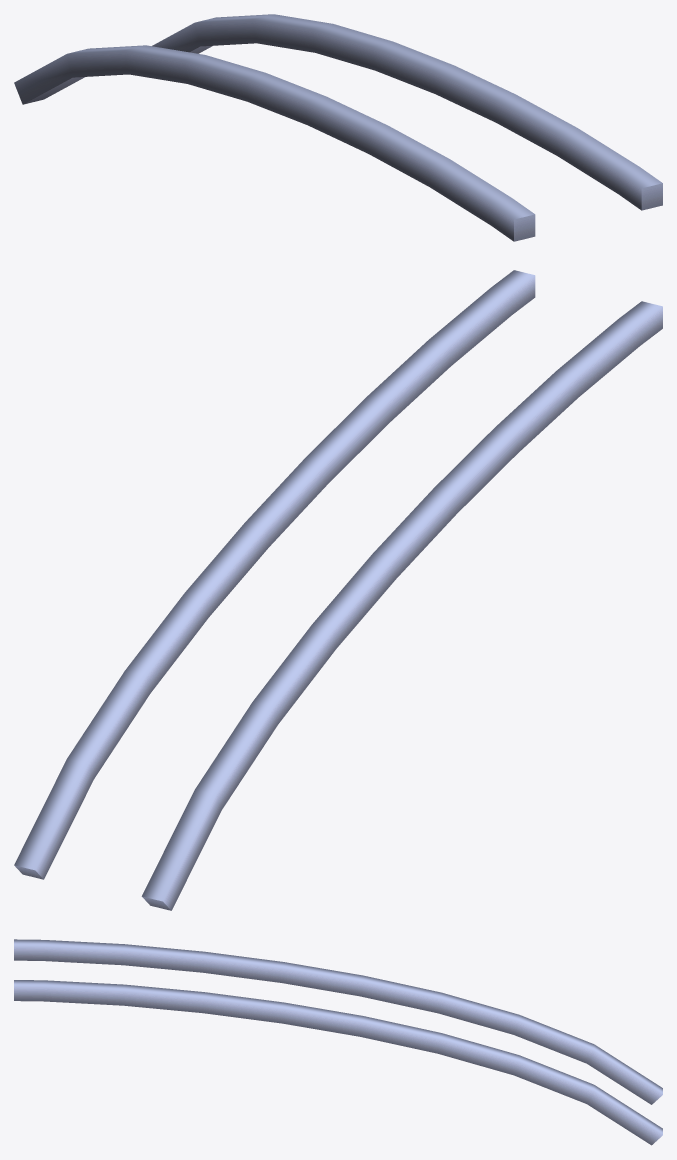
The model's file is kenney-train-railroad-rail-straight-hill-end.glb.
3 views of the same model, one above another, from view 1: azimuth 30°, elevation 25°; view 2: azimuth 150°, elevation 25°; view 3: azimuth 270°, elevation 25° (orthographic). The views are drawn at different scales.
Visible parts, largest first — view 1: railroad-rail-straight-hill-end; view 2: railroad-rail-straight-hill-end; view 3: railroad-rail-straight-hill-end.
Boxes of the visible parts, box(x1,y1,x2,y2) form: railroad-rail-straight-hill-end: box(14, 14, 662, 241); railroad-rail-straight-hill-end: box(14, 270, 662, 910); railroad-rail-straight-hill-end: box(14, 939, 662, 1145).
Bounding box in the file's own units: 0.7002 × 1.1 × 4.07.
1 material, 1 textured.
